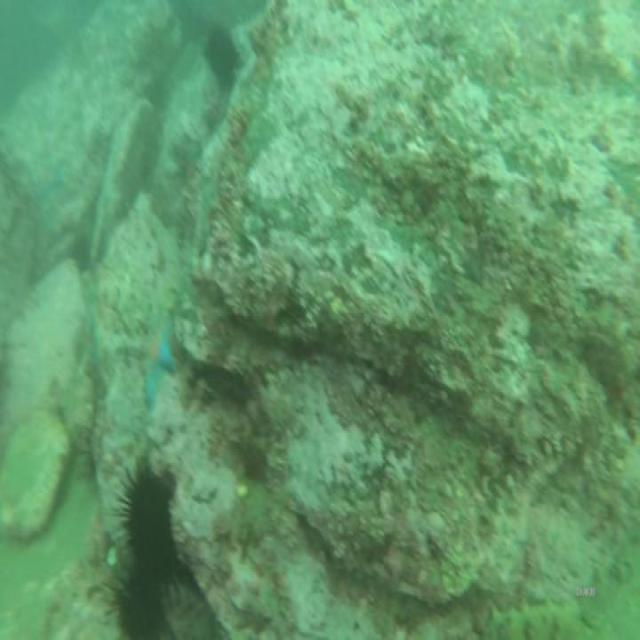echinus: (123, 457, 185, 580), (111, 556, 176, 640), (205, 18, 239, 86)
starfish: (131, 313, 177, 408)
